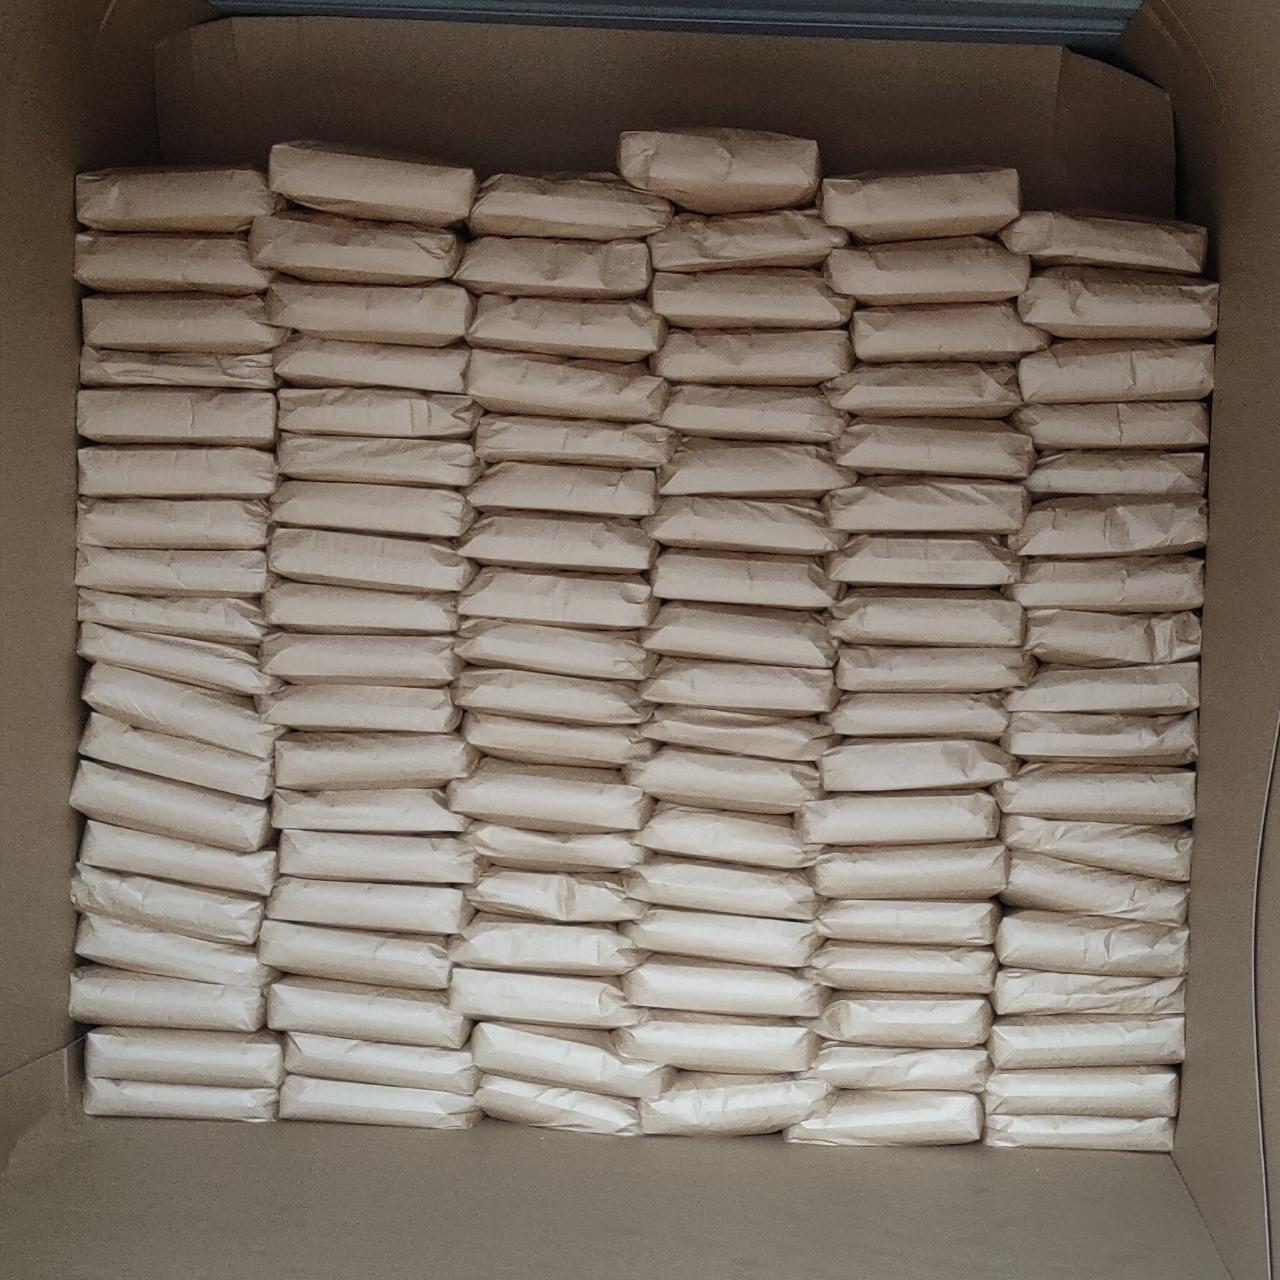sack: (82, 662, 285, 759), (72, 761, 270, 851), (270, 142, 476, 227), (617, 127, 820, 213), (80, 713, 271, 799), (472, 1022, 676, 1099), (249, 211, 463, 284), (77, 621, 280, 697), (448, 758, 652, 832), (77, 914, 276, 989), (80, 821, 275, 897), (72, 866, 262, 944), (817, 169, 1019, 242), (1017, 267, 1217, 339), (265, 277, 473, 346), (823, 236, 1029, 305), (268, 977, 468, 1048), (467, 349, 667, 420), (466, 172, 672, 240), (261, 919, 450, 990), (268, 528, 474, 593), (1001, 852, 1187, 923), (466, 295, 666, 361), (627, 857, 836, 920), (999, 211, 1207, 274), (611, 1011, 818, 1074), (648, 209, 850, 273), (641, 602, 836, 668), (627, 747, 819, 814), (622, 955, 826, 1018), (450, 912, 650, 976), (70, 966, 265, 1031), (996, 910, 1188, 976), (641, 1071, 837, 1135), (76, 169, 274, 232), (1001, 816, 1192, 881), (458, 567, 658, 629), (831, 418, 1034, 479), (454, 236, 650, 299), (1009, 496, 1207, 558), (1019, 340, 1213, 403), (450, 967, 647, 1029), (75, 232, 268, 295), (83, 295, 289, 354), (992, 764, 1194, 824), (78, 387, 276, 448), (266, 877, 474, 935), (284, 1032, 478, 1094), (658, 437, 855, 498), (457, 514, 658, 573), (642, 496, 843, 555), (456, 621, 656, 680), (822, 477, 1029, 534), (650, 270, 853, 328), (86, 1027, 282, 1087), (622, 908, 820, 967), (651, 550, 844, 610), (271, 481, 474, 538), (641, 657, 837, 716), (639, 802, 814, 868), (850, 304, 1048, 362), (279, 830, 484, 886), (275, 733, 479, 789), (278, 434, 484, 489), (650, 330, 853, 385), (452, 669, 651, 724), (812, 843, 1007, 899), (1009, 556, 1204, 612), (797, 791, 999, 845), (273, 336, 467, 392), (262, 632, 462, 686), (986, 1067, 1177, 1123), (785, 1091, 983, 1145), (280, 1075, 481, 1128), (832, 592, 1024, 647), (467, 462, 655, 518), (804, 992, 992, 1048), (79, 446, 277, 499), (475, 415, 673, 468), (78, 589, 265, 645), (821, 365, 1021, 417), (462, 713, 654, 767), (278, 387, 481, 438), (658, 387, 846, 442), (1000, 712, 1197, 764), (641, 706, 830, 760), (988, 1017, 1184, 1069), (817, 740, 1015, 791), (76, 545, 266, 598), (465, 868, 648, 923), (264, 582, 456, 634), (1004, 662, 1199, 713), (795, 1042, 989, 1093), (1011, 401, 1208, 451), (807, 943, 996, 995), (475, 1074, 639, 1133), (827, 537, 1020, 587), (1024, 612, 1199, 667), (462, 823, 656, 872), (77, 500, 269, 549), (261, 685, 458, 732), (80, 346, 281, 392), (272, 788, 471, 834), (836, 646, 1035, 692), (991, 968, 1183, 1015), (1023, 451, 1205, 500), (85, 1076, 279, 1120), (822, 694, 1007, 740), (817, 900, 999, 946), (984, 1114, 1173, 1152)
